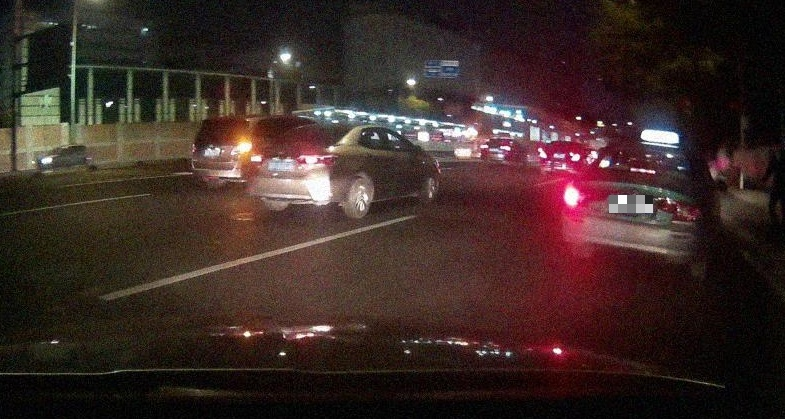L_light: (563, 183, 608, 206), (249, 153, 263, 163)
R_light: (656, 197, 704, 222), (296, 154, 338, 166)
T_light: (629, 166, 656, 175), (312, 126, 328, 129)
night-left: (560, 140, 708, 281)
night-no: (246, 124, 357, 214)
plate_1: (609, 195, 653, 213)
